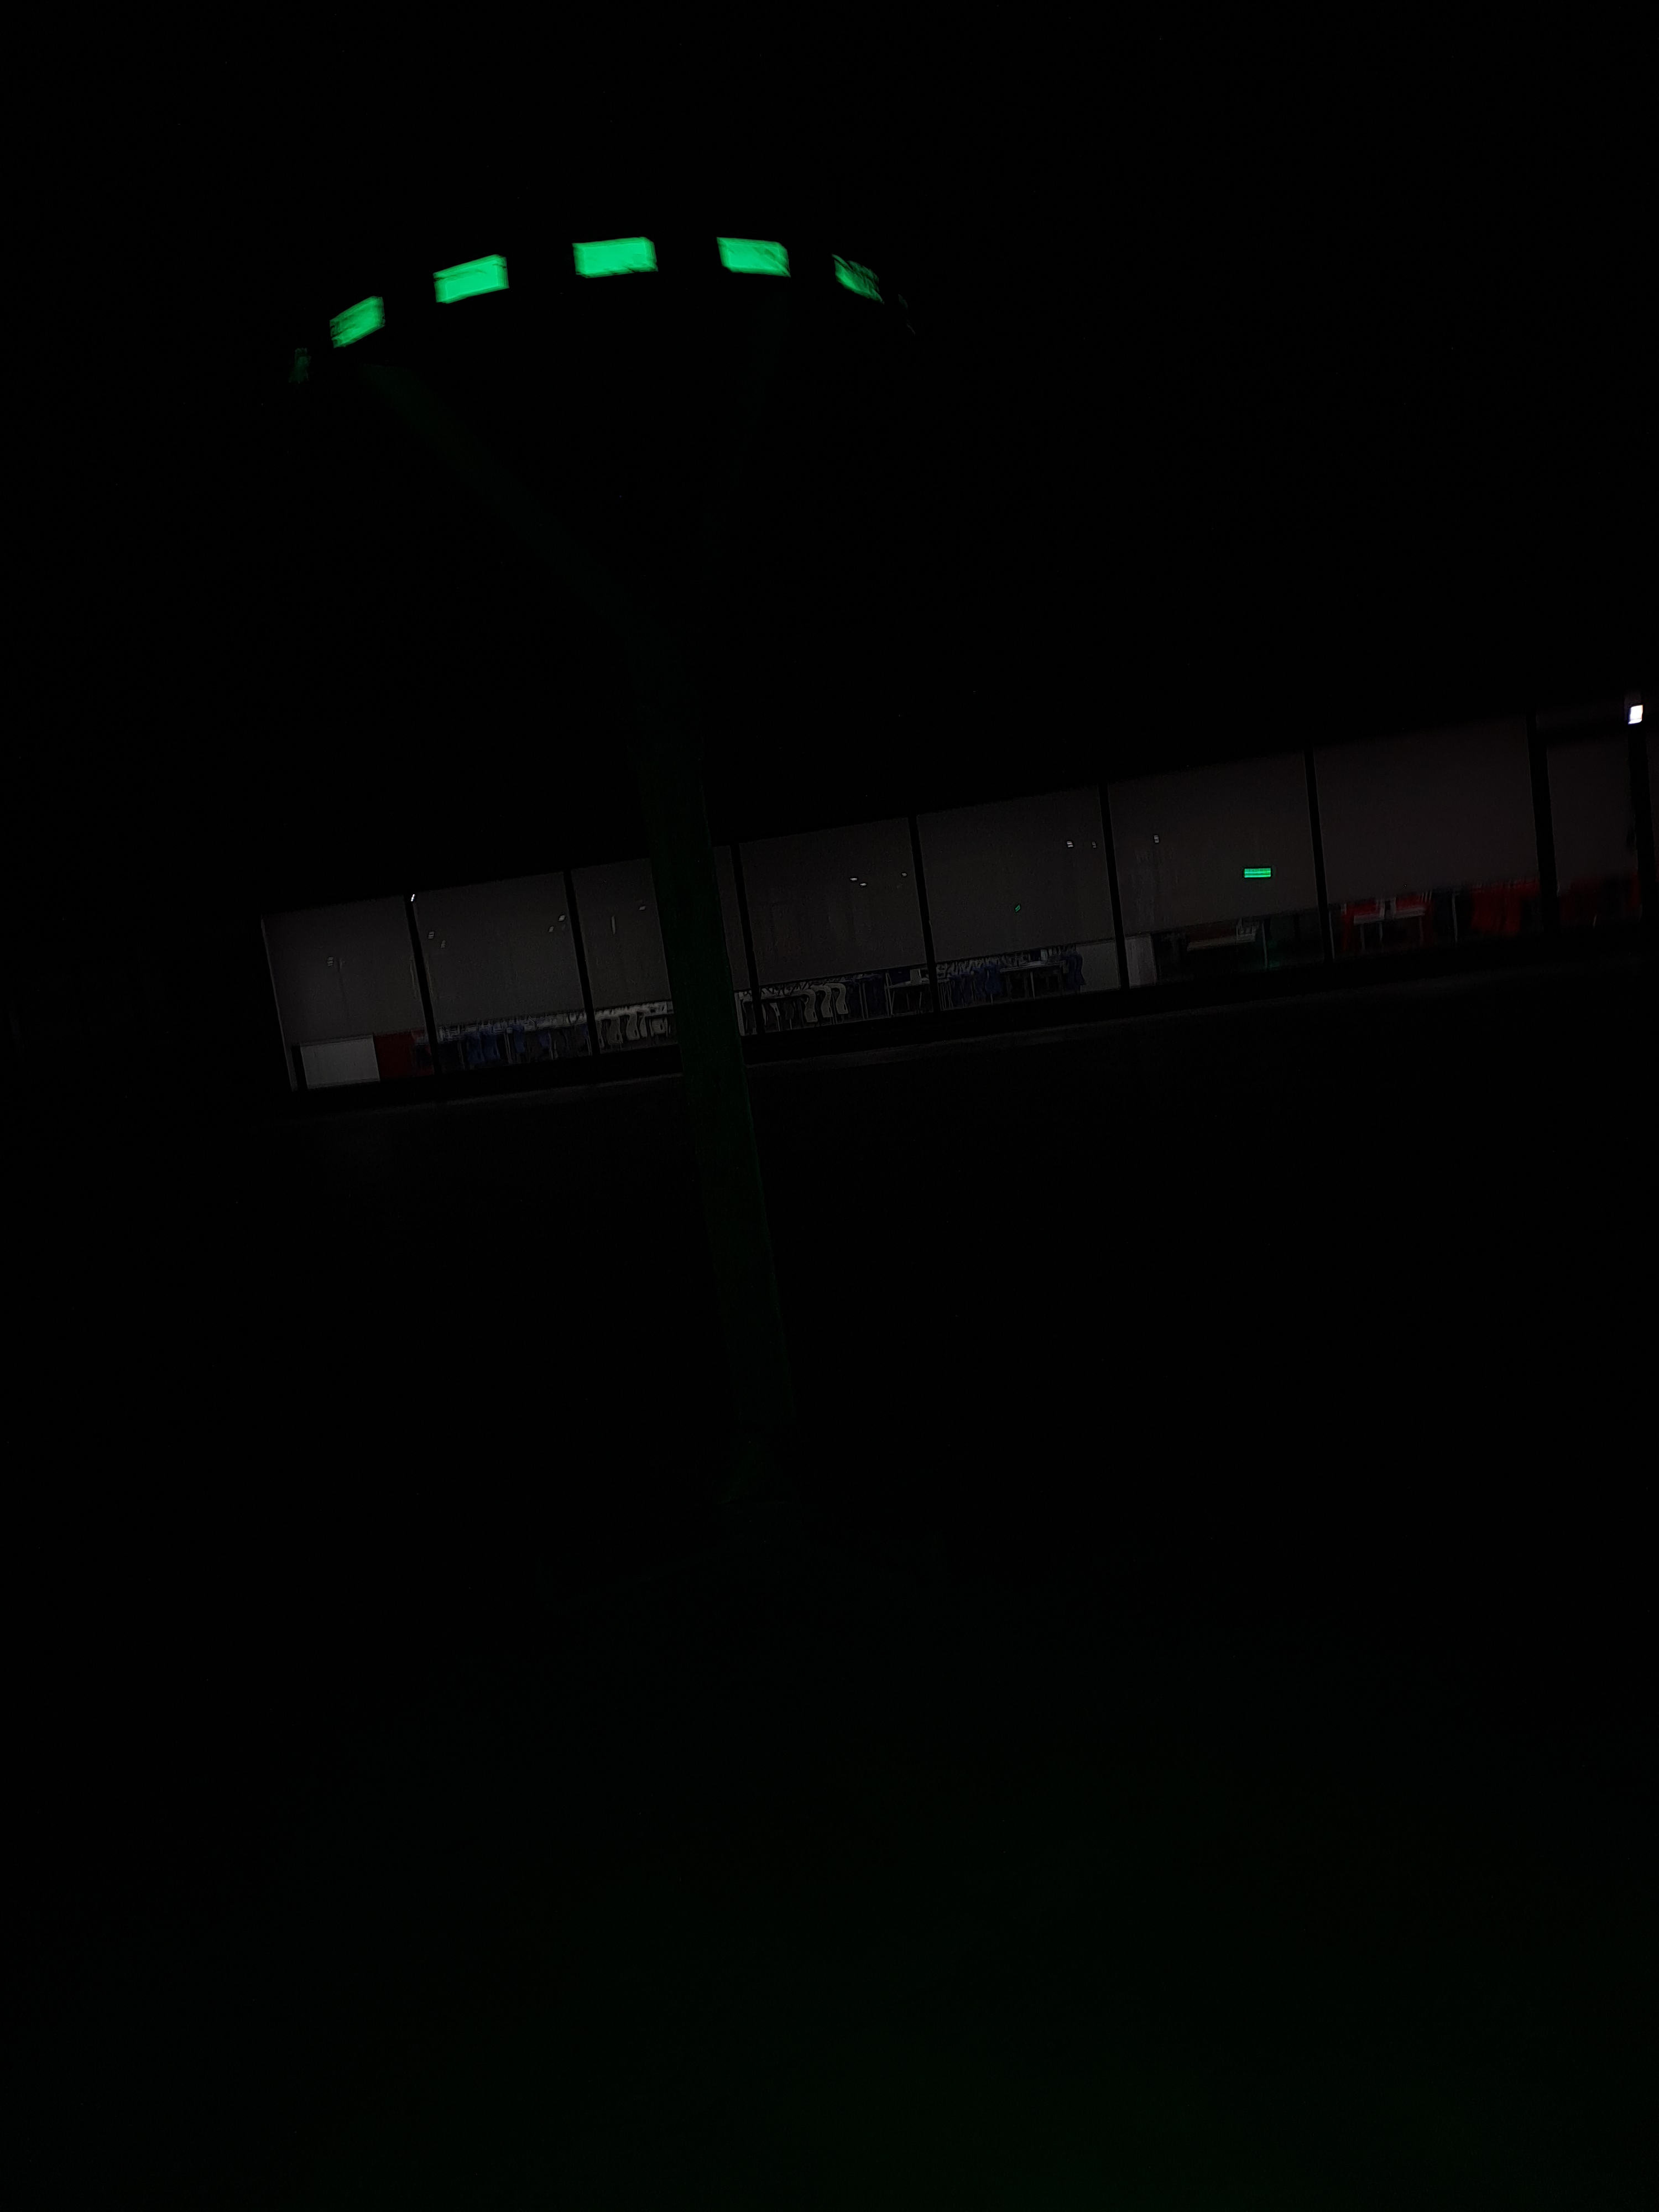hoop: (326, 230, 903, 355)
